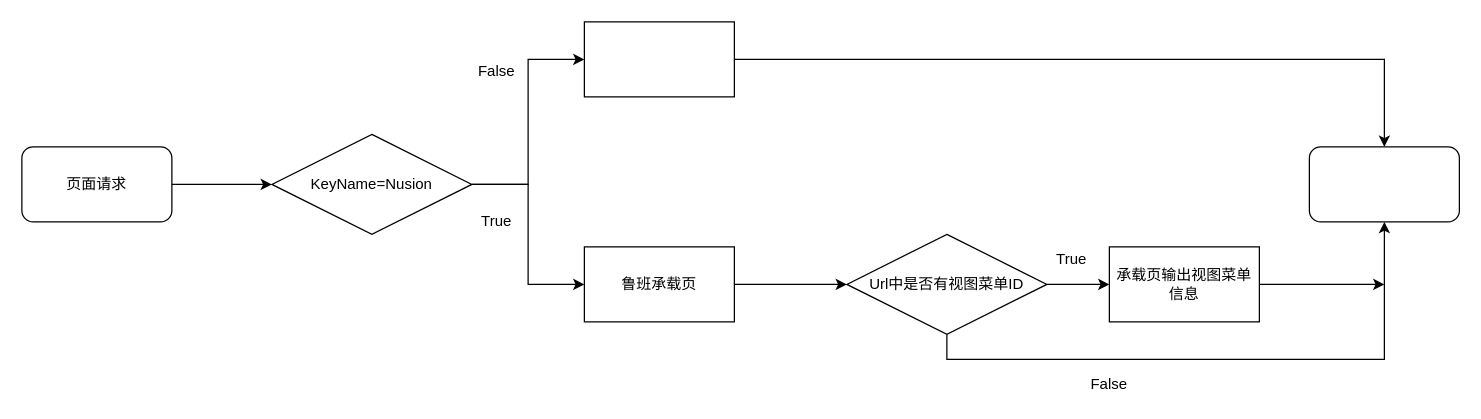
The diagram is 1481 pixels wide and 419 high, and some of its shapes have lost their labels. The centre of each missing label's shape, as x and y in pixels:
"多租赁承载页" goes at (x=658, y=59).
"返回承载页" goes at (x=1383, y=184).
